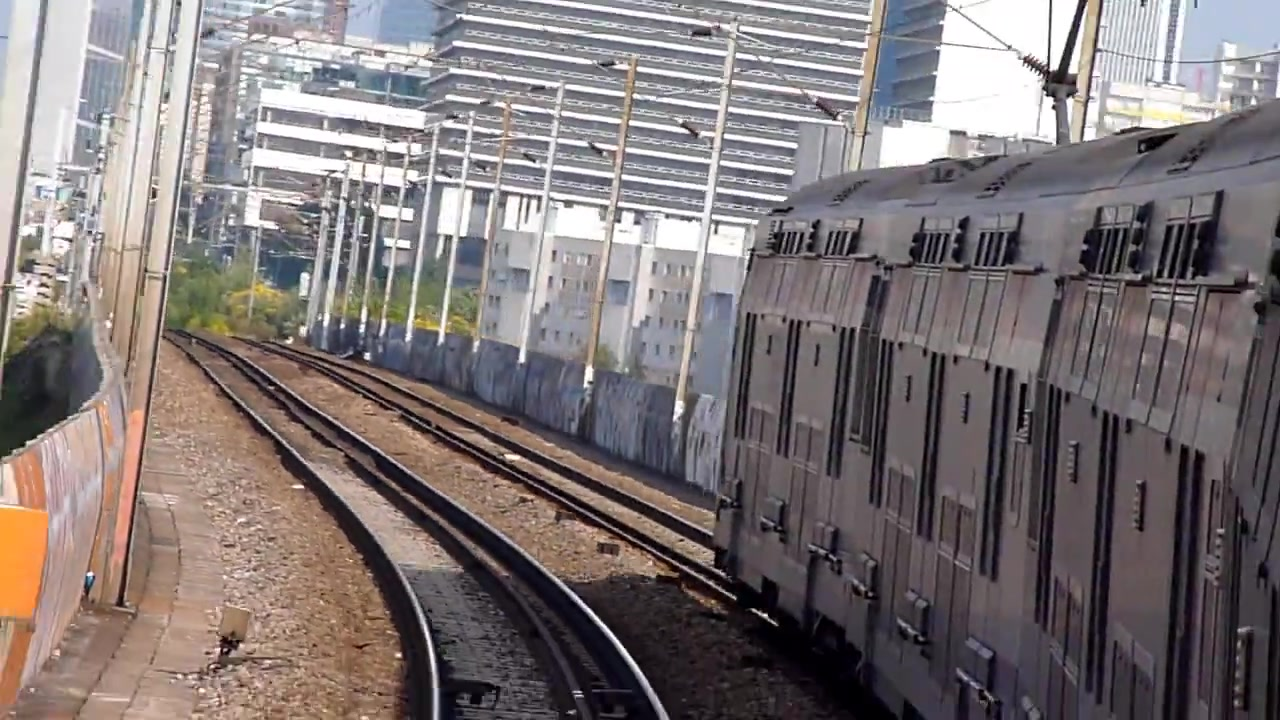train: (709, 104, 1280, 720)
